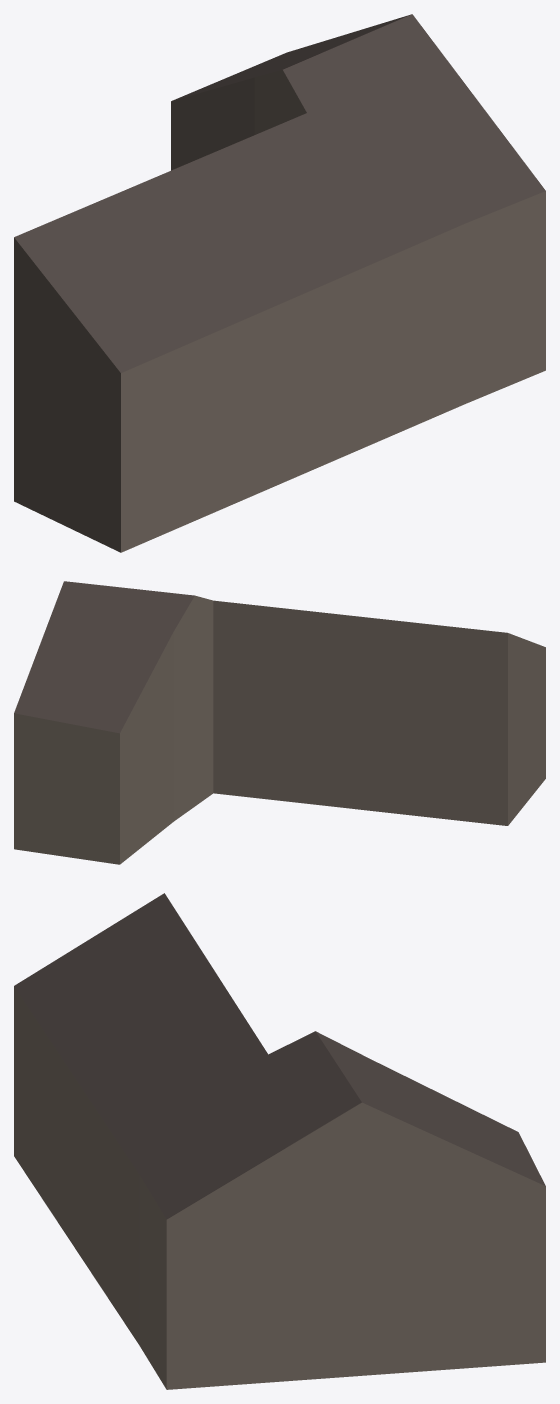
3 views of the same model, one above another, from view 1: azimuth 30°, elevation 25°; view 2: azimuth 150°, elevation 25°; view 3: azimuth 270°, elevation 25° (orthographic). The views are drawn at different scales.
Visible parts, largest first — view 1: HP-w1198664288; view 2: HP-w1198664288; view 3: HP-w1198664288.
Part boxes in pixels (x1,y1,x2,y2): HP-w1198664288: (14,14,545,552); HP-w1198664288: (14,581,545,864); HP-w1198664288: (14,893,545,1389).
Size of the model in its own units: 18.64 by 9.64 by 17.
